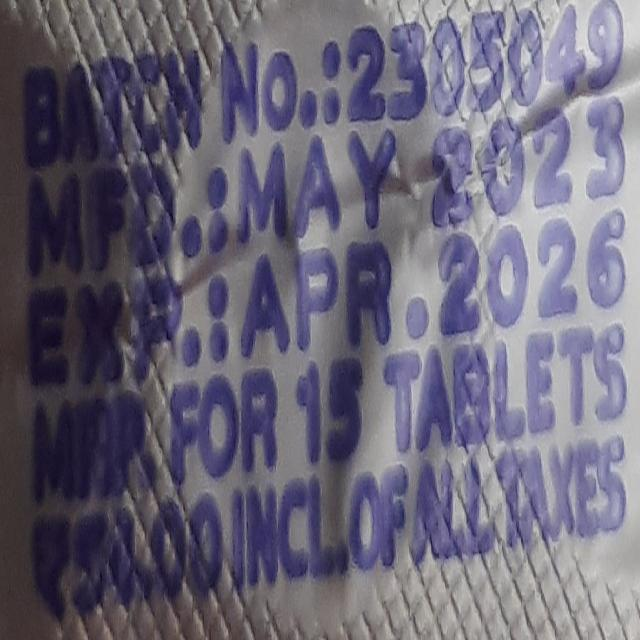sentence: (28, 77, 624, 288), (32, 438, 626, 617), (34, 322, 628, 500), (29, 209, 626, 386), (25, 0, 625, 168)
